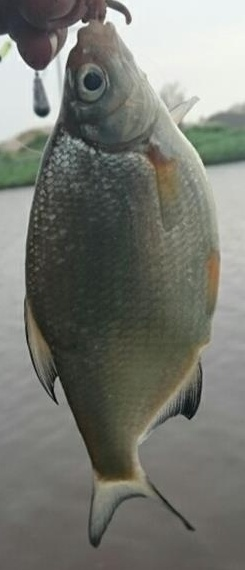Blicca bjoerkna: (20, 20, 225, 550)
